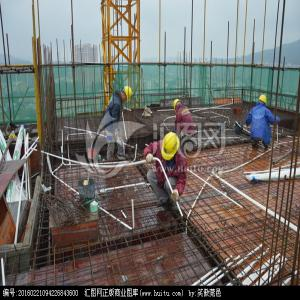yellow: (162, 132, 180, 162), (121, 86, 133, 104), (173, 99, 183, 112), (259, 94, 267, 108)
